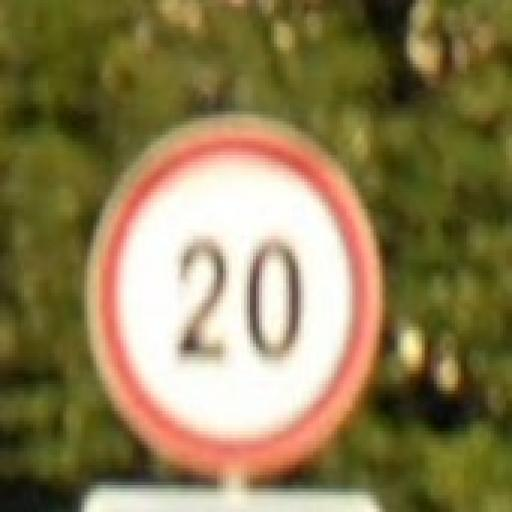traffic_sign: (86, 115, 384, 476)
